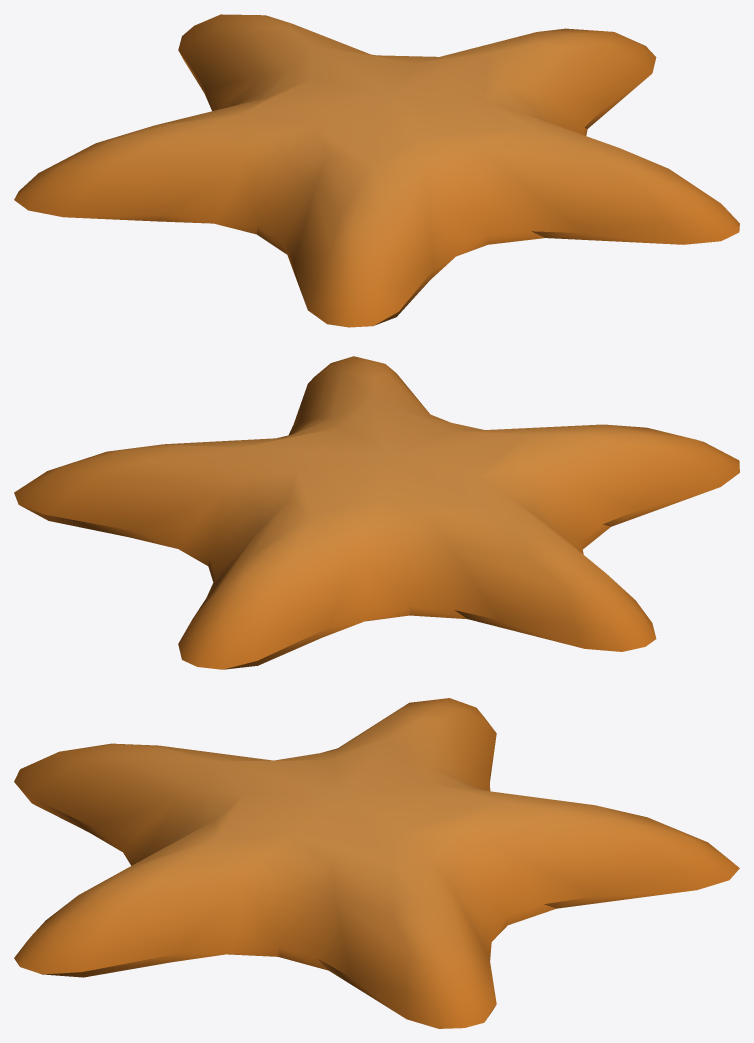
Rendered from Starfish_02.fbx.
3 views of the same model, one above another, from view 1: azimuth 30°, elevation 25°; view 2: azimuth 150°, elevation 25°; view 3: azimuth 270°, elevation 25° (orthographic). The views are drawn at different scales.
Visible parts, largest first — view 1: Starfish_02_LOD0; view 2: Starfish_02_LOD0; view 3: Starfish_02_LOD0.
Part boxes in pixels (bbox=[...]): Starfish_02_LOD0: bbox=[14, 14, 739, 327]; Starfish_02_LOD0: bbox=[14, 356, 739, 669]; Starfish_02_LOD0: bbox=[14, 698, 739, 1028].
Size of what is drawn, in the model's own units: 0.2593 by 0.0317 by 0.2488.
